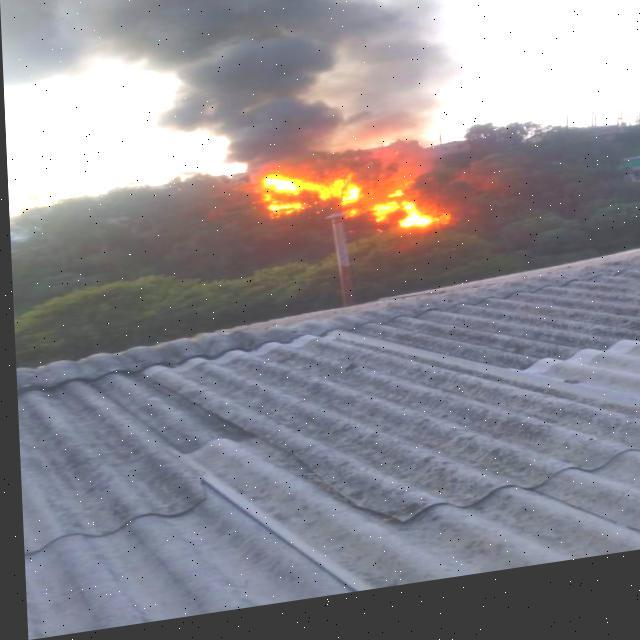Fire: (254, 174, 356, 228), (342, 198, 440, 249)
